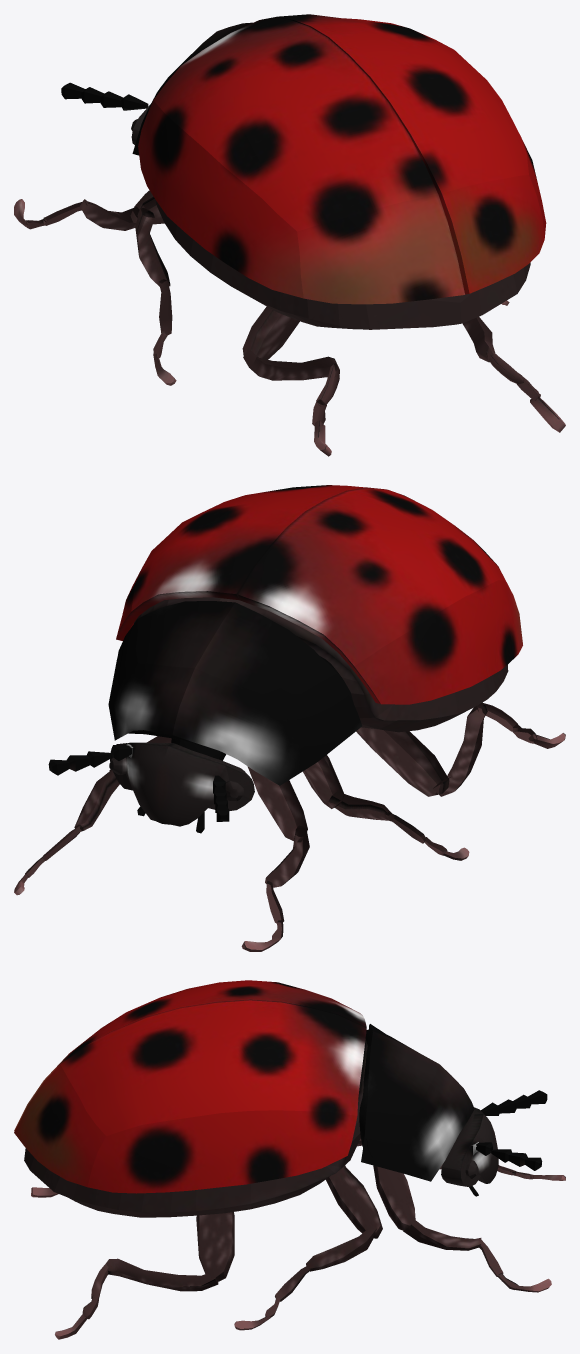
Rendered from beruska.glb.
3 renders of one model, top to bottom at view 1: azimuth 30°, elevation 25°; view 2: azimuth 150°, elevation 25°; view 3: azimuth 270°, elevation 25°, orthographic. The views are drawn at different scales.
Size of the model in its own units: 0.5618 by 0.5433 by 0.9357.
Materials: 1 (1 with a texture image).
